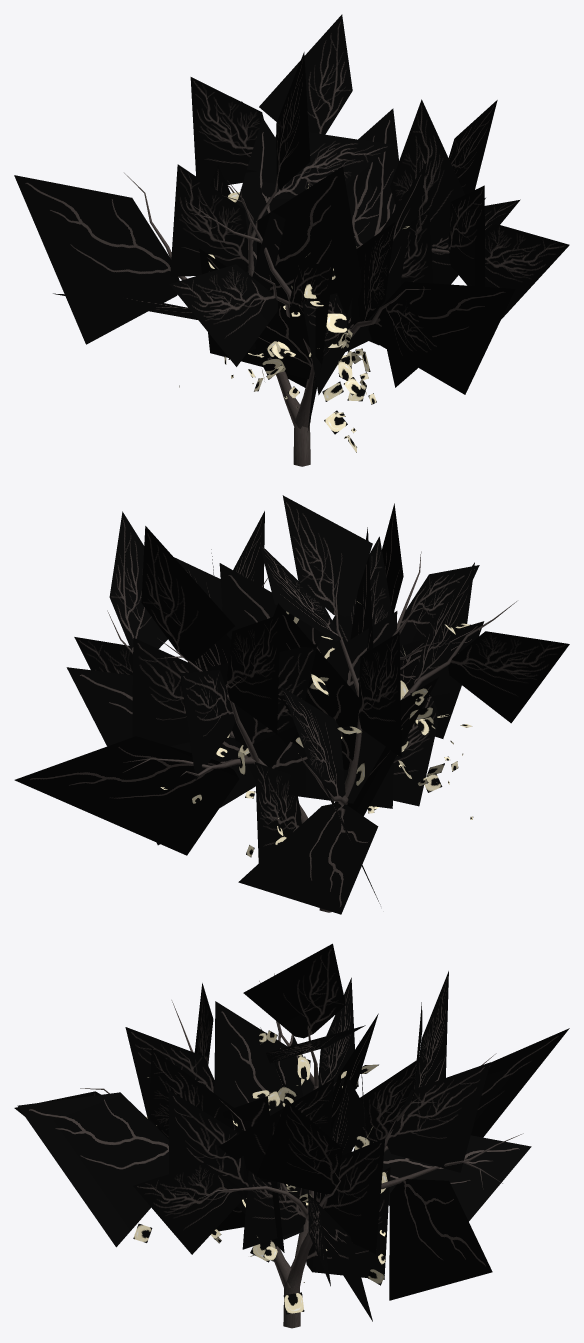
The model's file is tree.fbx.
3 renders of one model, top to bottom at view 1: azimuth 30°, elevation 25°; view 2: azimuth 150°, elevation 25°; view 3: azimuth 270°, elevation 25°, orthographic. The views are drawn at different scales.
Parts seen in each view (by area): view 1: Tree_Branches, tree.002, moons; view 2: Tree_Branches, tree.002, moons; view 3: Tree_Branches, tree.002, moons.
Part boxes in pixels (x1,y1,x2,y2): Tree_Branches: (14,14,569,431); tree.002: (124,148,449,466); moons: (179,181,410,452); Tree_Branches: (14,495,569,914); tree.002: (107,551,516,912); moons: (160,601,479,857); Tree_Branches: (14,943,569,1321); tree.002: (80,973,523,1328); moons: (133,1030,388,1314).
Size of the model in its own units: 1700 by 1569 by 2018.
